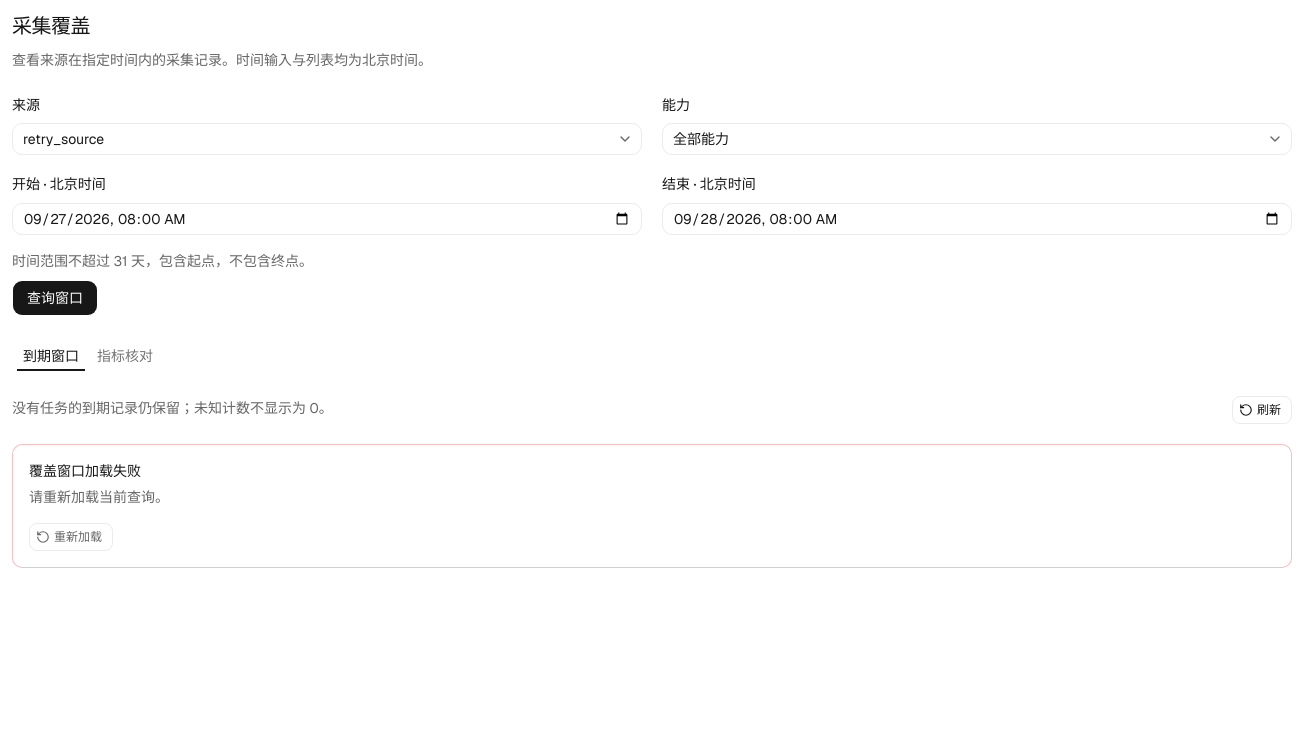
it: source coverage interaction › recovers from 500 without dropping the URL filter
Expected: the text "覆盖窗口加载失败" is shown, left=29, top=462, right=141, bottom=480
Click the button "重新加载".
click(71, 536)  # box left=29, top=522, right=113, bottom=550
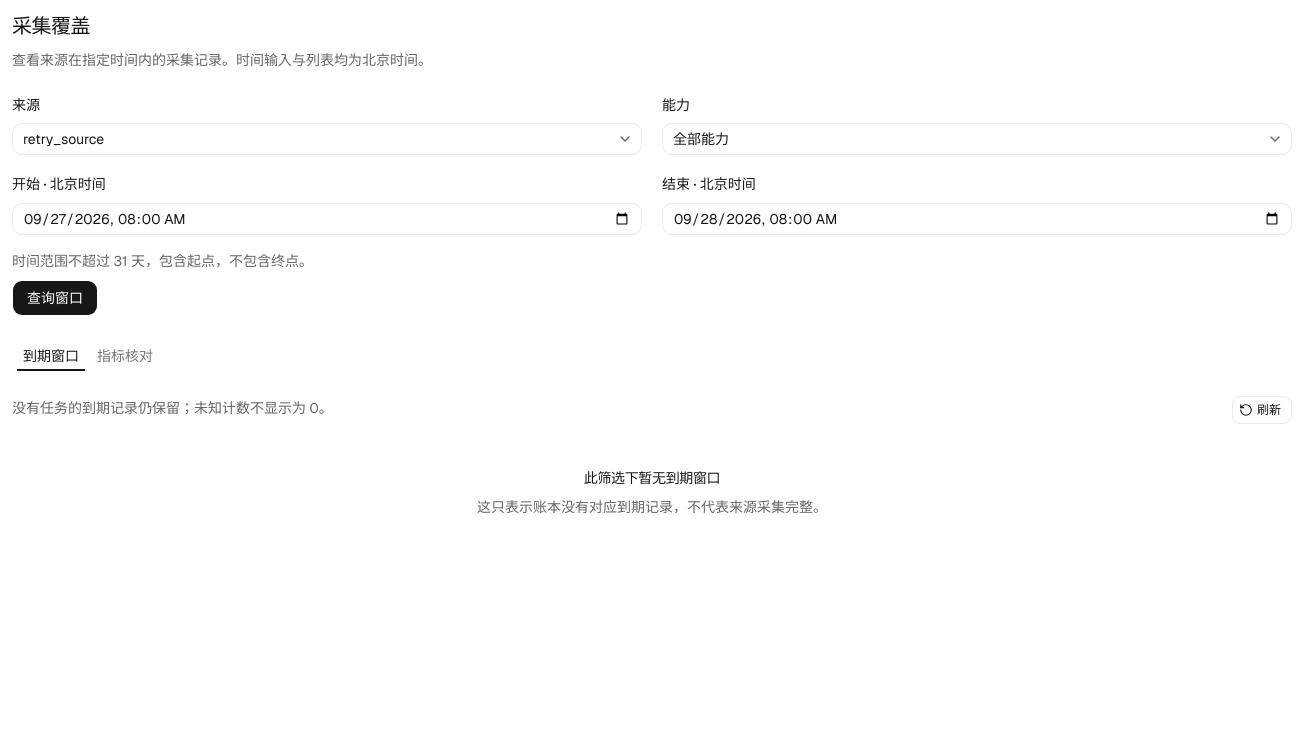
Expected: the text "此筛选下暂无到期窗口" is shown, left=584, top=468, right=720, bottom=488
